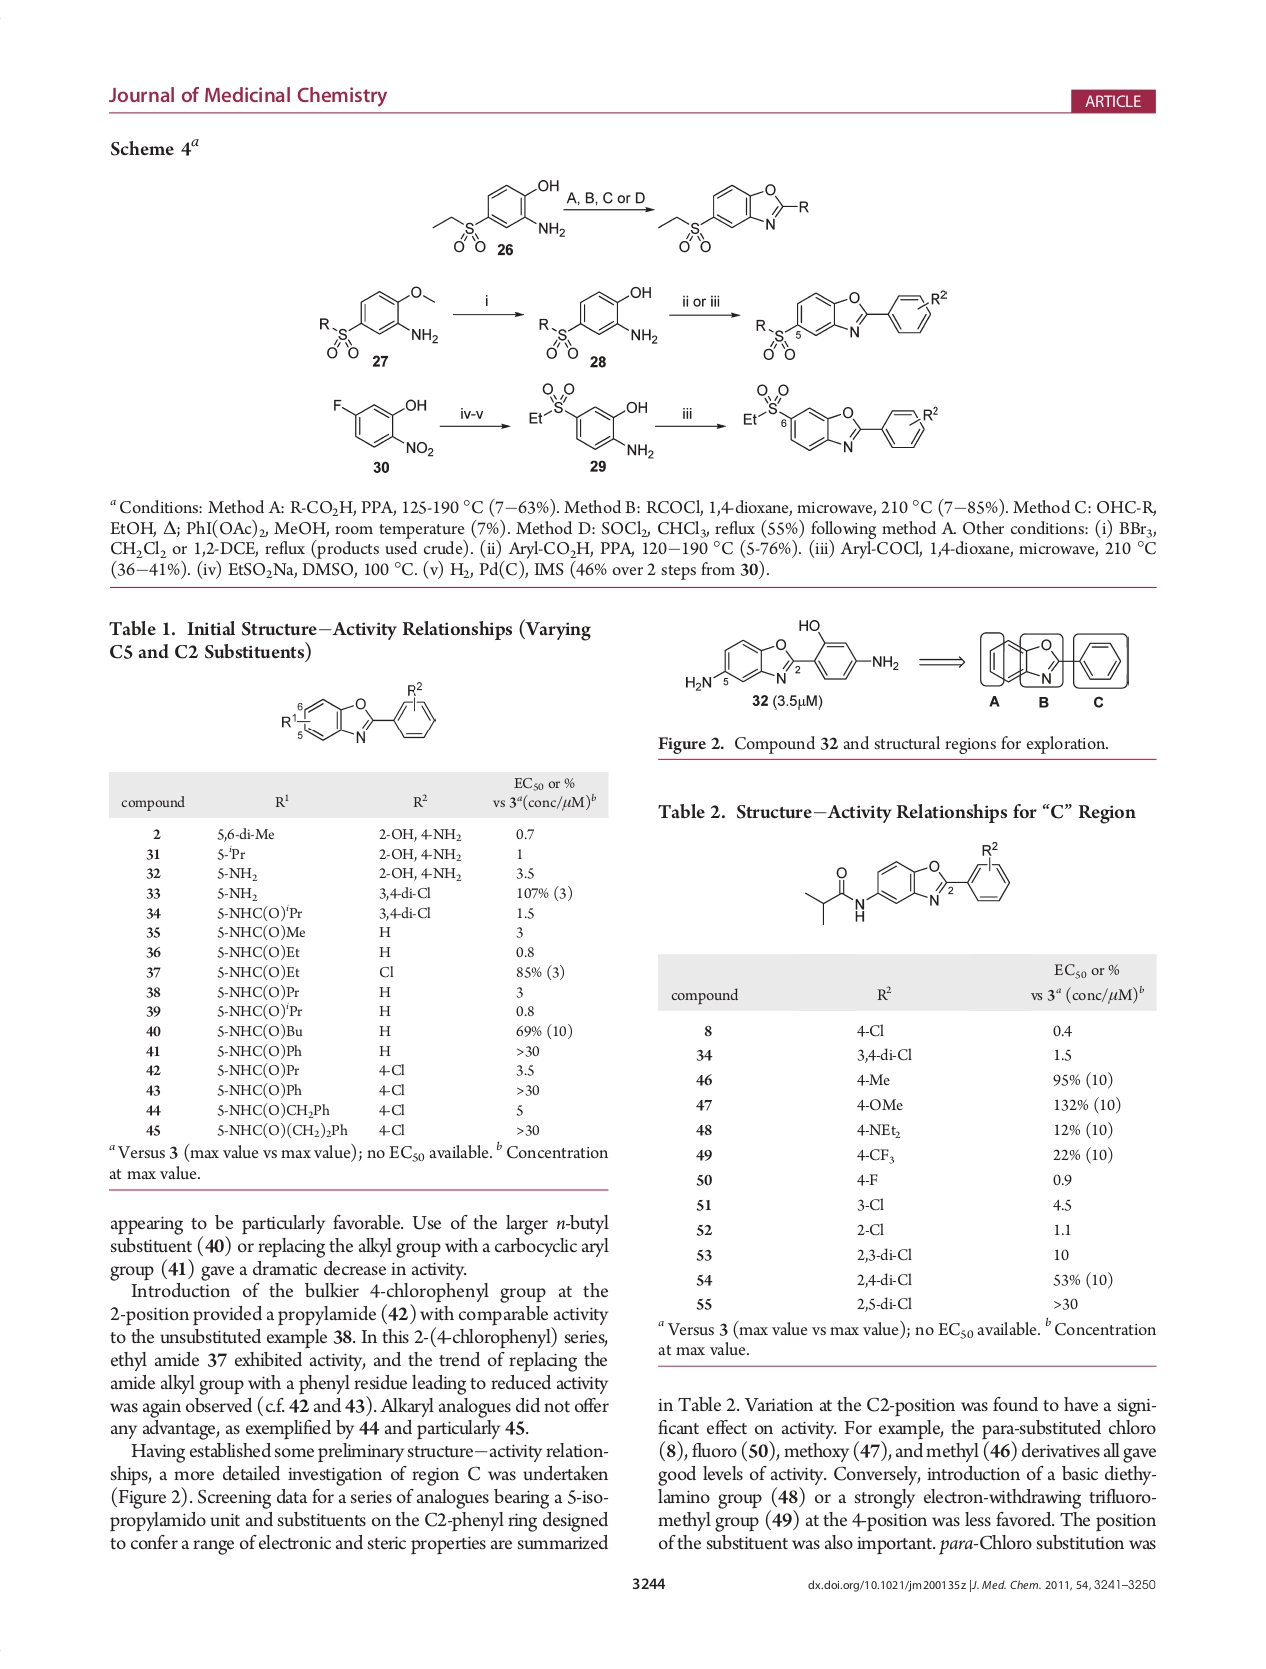exist_molecular: (801, 836, 1013, 926), (684, 616, 900, 693), (751, 285, 949, 364), (739, 383, 942, 452), (657, 180, 814, 257), (426, 176, 565, 257), (523, 376, 656, 459), (277, 677, 438, 745), (535, 283, 660, 362), (314, 283, 439, 362), (330, 391, 438, 457), (987, 637, 1122, 684)
